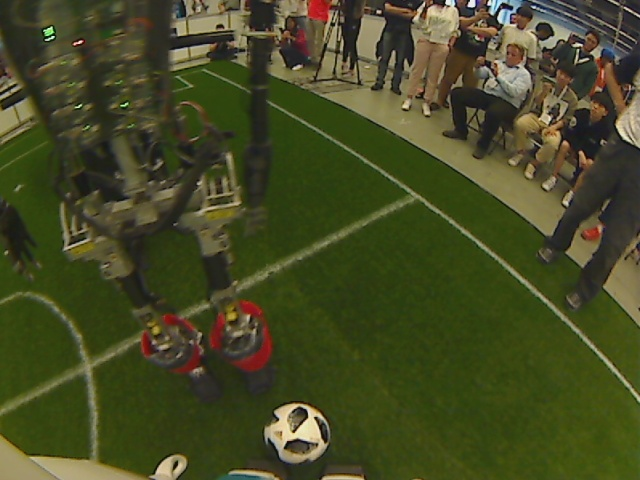ball: (261, 401, 332, 465)
